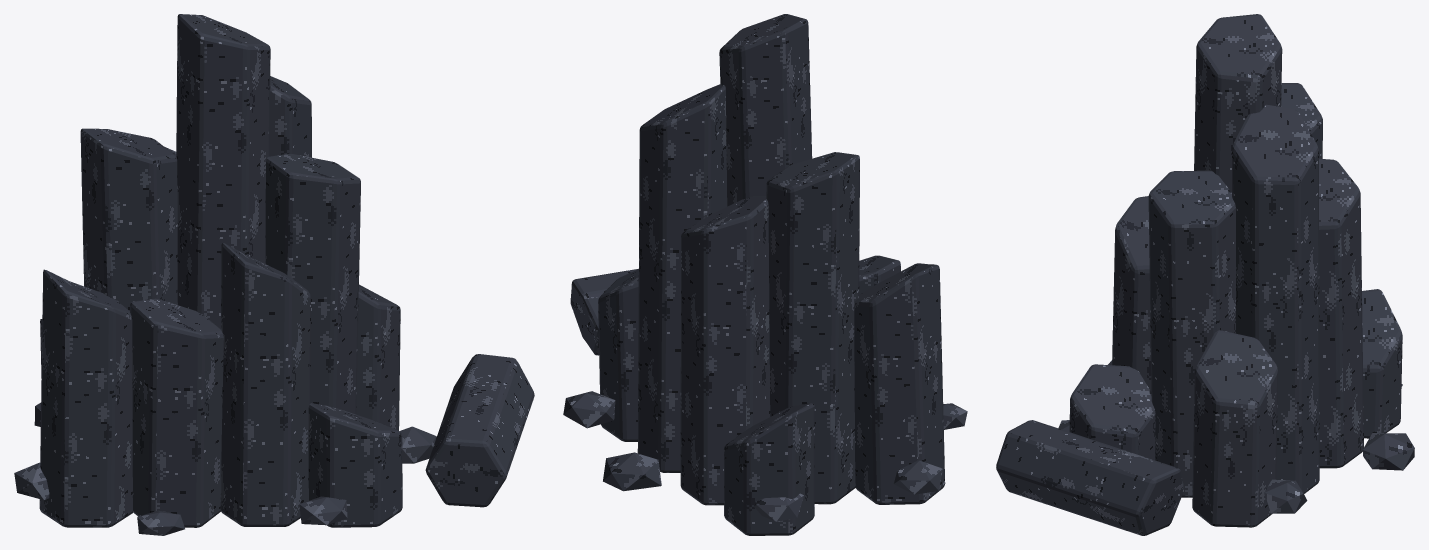
File: canela_basalt.glb
3 renders of one model, left to right at view 1: azimuth 30°, elevation 25°; view 2: azimuth 150°, elevation 25°; view 3: azimuth 270°, elevation 25°, orthographic. The views are drawn at different scales.
Visible parts, largest first — view 1: Basalt; view 2: Basalt; view 3: Basalt.
Boxes of the visible parts, x1,y1,x2,y2 form: Basalt: (14,14,534,535); Basalt: (563,14,967,535); Basalt: (996,14,1414,535).
Size of the model in its own units: 6.42 by 6.31 by 5.61.
1 material, 1 textured.
